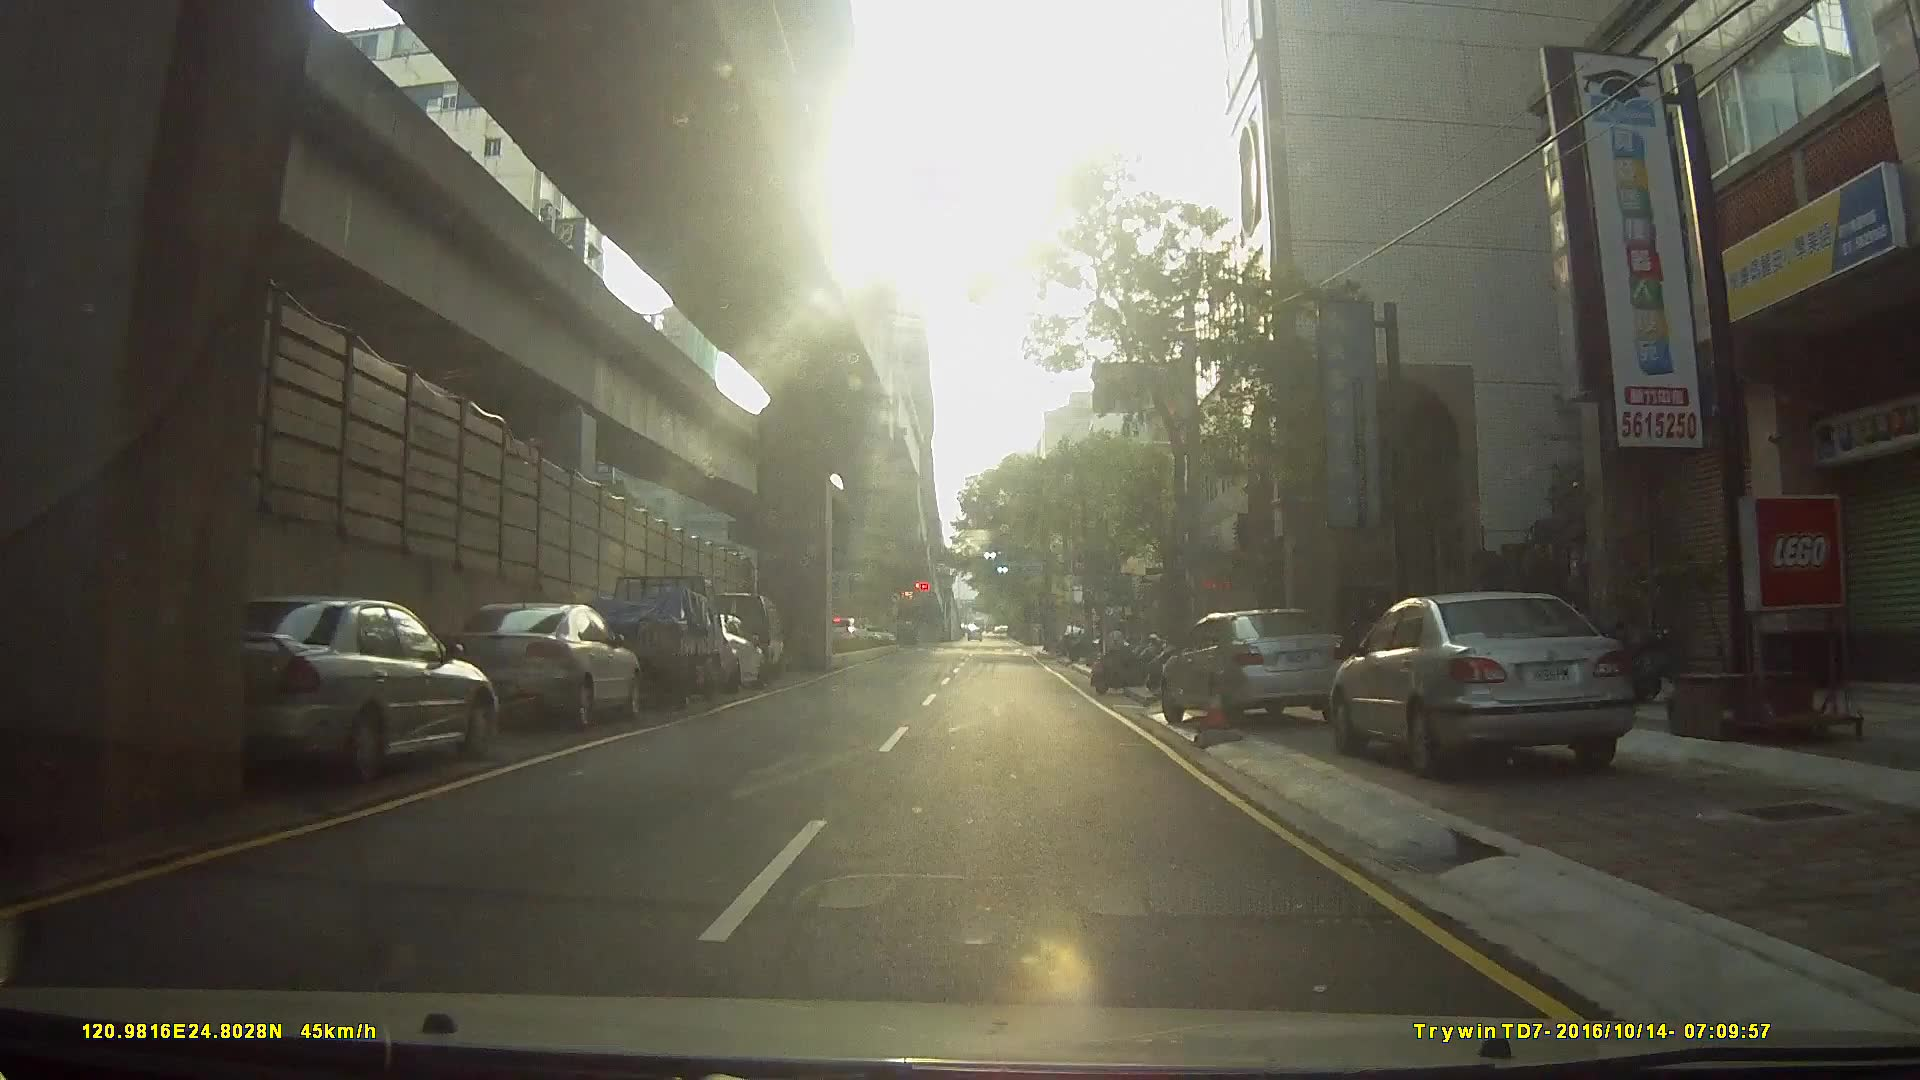rider: (1093, 626, 1162, 703)
vehicle: (149, 598, 502, 804), (1339, 589, 1662, 783), (418, 606, 649, 741), (1159, 603, 1360, 731), (570, 570, 721, 712)
